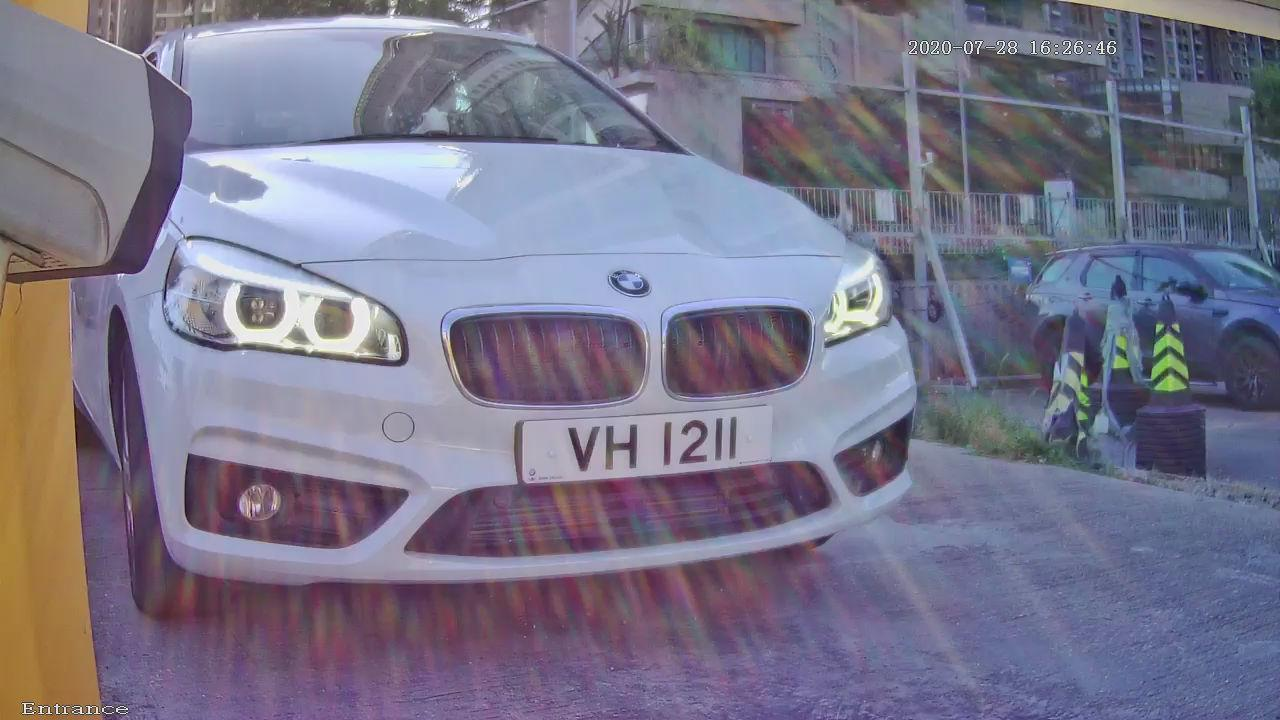privatecar: (6, 20, 1138, 659)
